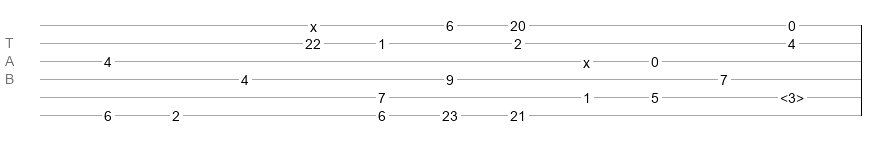0: (651, 54, 659, 64), (788, 18, 796, 28)
1: (378, 36, 386, 46), (583, 90, 591, 100)
2: (172, 108, 180, 118), (514, 36, 522, 46)
20: (510, 18, 526, 28)
21: (510, 108, 526, 118)
22: (305, 36, 321, 46)
23: (442, 108, 458, 118)
4: (104, 54, 112, 64), (241, 72, 249, 82), (788, 36, 796, 46)
5: (651, 90, 659, 100)
6: (104, 108, 112, 118), (378, 108, 386, 118), (446, 18, 454, 28)
7: (378, 90, 386, 100), (720, 72, 728, 82)
9: (446, 72, 454, 82)
harmonic: (780, 90, 804, 100)
x: (310, 19, 317, 27), (583, 55, 590, 63)
